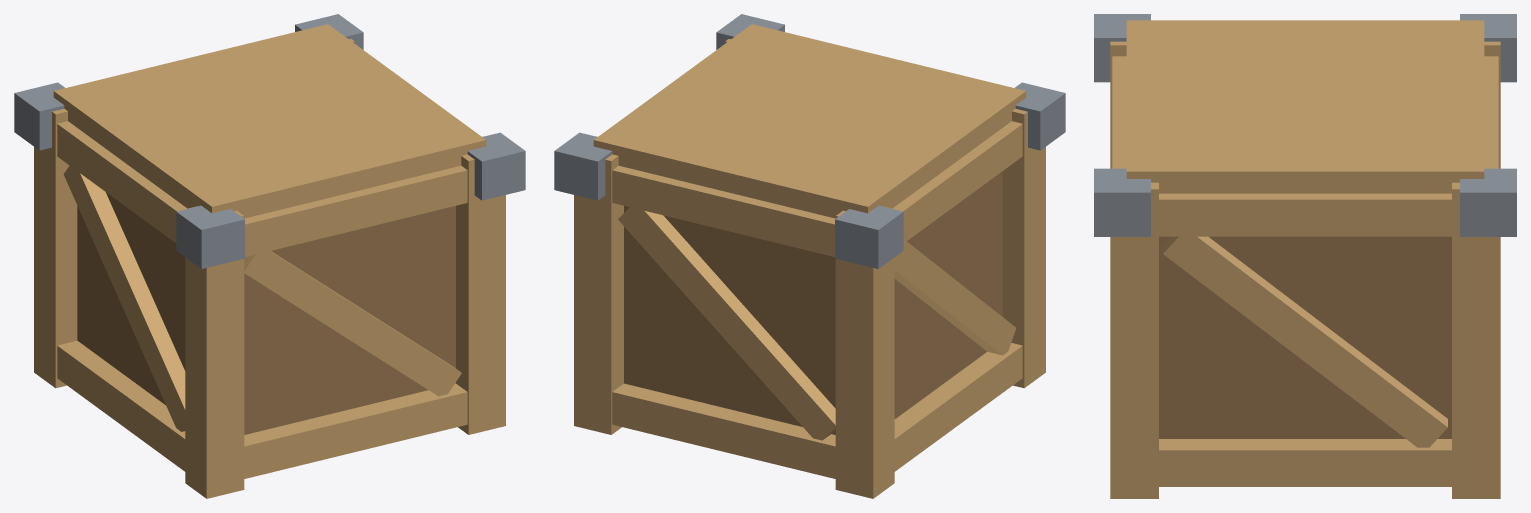
The model's file is SM_Loot_ScrapCrate.fbx.
The picture shows the model from 3 angles, left to right: view 1: azimuth 30°, elevation 25°; view 2: azimuth 150°, elevation 25°; view 3: azimuth 270°, elevation 25°; orthographic projection. The views are drawn at different scales.
Parts seen in each view (by area): view 1: CrateLidTop, CrateCore, CornerPillar_-0.42_-0.42, CornerPillar_0.42_-0.42, RailX_0.08_-0.43, CornerPillar_-0.42_0.42, RailX_0.76_-0.43, BraceLeft, BraceFront, RailY_0.08_-0.43, RailY_0.76_-0.43, BracketTop_-0.45_-0.45 (+3 smaller); view 2: CrateLidTop, CrateCore, CornerPillar_-0.42_0.42, CornerPillar_0.42_0.42, BraceBack, RailX_0.08_0.43, CornerPillar_-0.42_-0.42, RailX_0.76_0.43, RailY_0.08_-0.43, RailY_0.76_-0.43, BraceLeft, BracketTop_-0.45_0.45 (+3 smaller); view 3: CrateLidTop, CrateCore, RailY_0.08_0.43, BraceRight, CornerPillar_0.42_-0.42, CornerPillar_0.42_0.42, RailY_0.76_0.43, BracketTop_0.45_-0.45, BracketTop_0.45_0.45, BracketTop_-0.45_-0.45, BracketTop_-0.45_0.45, RailX_0.76_-0.43 (+3 smaller).
Part boxes in pixels (<box>): CrateLidTop: <box>53,24,486,218</box>; CrateCore: <box>77,192,455,434</box>; CornerPillar_-0.42_-0.42: <box>185,206,244,498</box>; CornerPillar_0.42_-0.42: <box>456,136,505,434</box>; RailX_0.08_-0.43: <box>244,383,467,478</box>; CornerPillar_-0.42_0.42: <box>34,108,77,388</box>; RailX_0.76_-0.43: <box>244,165,467,256</box>; BraceLeft: <box>63,165,185,431</box>; BraceFront: <box>244,251,461,396</box>; RailY_0.08_-0.43: <box>57,340,185,471</box>; RailY_0.76_-0.43: <box>57,121,186,243</box>; BracketTop_-0.45_-0.45: <box>176,205,244,268</box>; CrateLidTop: <box>593,24,1026,218</box>; CrateCore: <box>624,171,1002,434</box>; CornerPillar_-0.42_0.42: <box>835,206,894,498</box>; CornerPillar_0.42_0.42: <box>574,136,623,434</box>; BraceBack: <box>618,207,835,440</box>; RailX_0.08_0.43: <box>612,383,835,478</box>; CornerPillar_-0.42_-0.42: <box>1002,108,1045,388</box>; RailX_0.76_0.43: <box>612,165,835,256</box>; RailY_0.08_-0.43: <box>894,343,1022,471</box>; RailY_0.76_-0.43: <box>893,121,1022,243</box>; BraceLeft: <box>894,241,1016,355</box>; BracketTop_-0.45_0.45: <box>835,205,903,268</box>; CrateLidTop: <box>1126,20,1484,193</box>; CrateCore: <box>1159,236,1451,438</box>; RailY_0.08_0.43: <box>1159,439,1451,486</box>; BraceRight: <box>1163,236,1447,447</box>; CornerPillar_0.42_-0.42: <box>1110,182,1158,498</box>; CornerPillar_0.42_0.42: <box>1452,182,1500,498</box>; RailY_0.76_0.43: <box>1159,193,1451,236</box>; BracketTop_0.45_-0.45: <box>1094,168,1150,236</box>; BracketTop_0.45_0.45: <box>1460,168,1516,236</box>; BracketTop_-0.45_-0.45: <box>1094,14,1150,82</box>; BracketTop_-0.45_0.45: <box>1460,14,1516,82</box>; RailX_0.76_-0.43: <box>1112,56,1126,168</box>.
Size of the model in its own units: 1.04 by 0.87 by 1.04.
